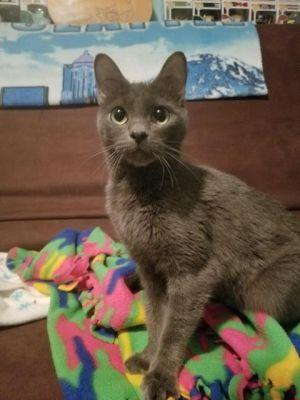rblue: (88, 47, 197, 174)
